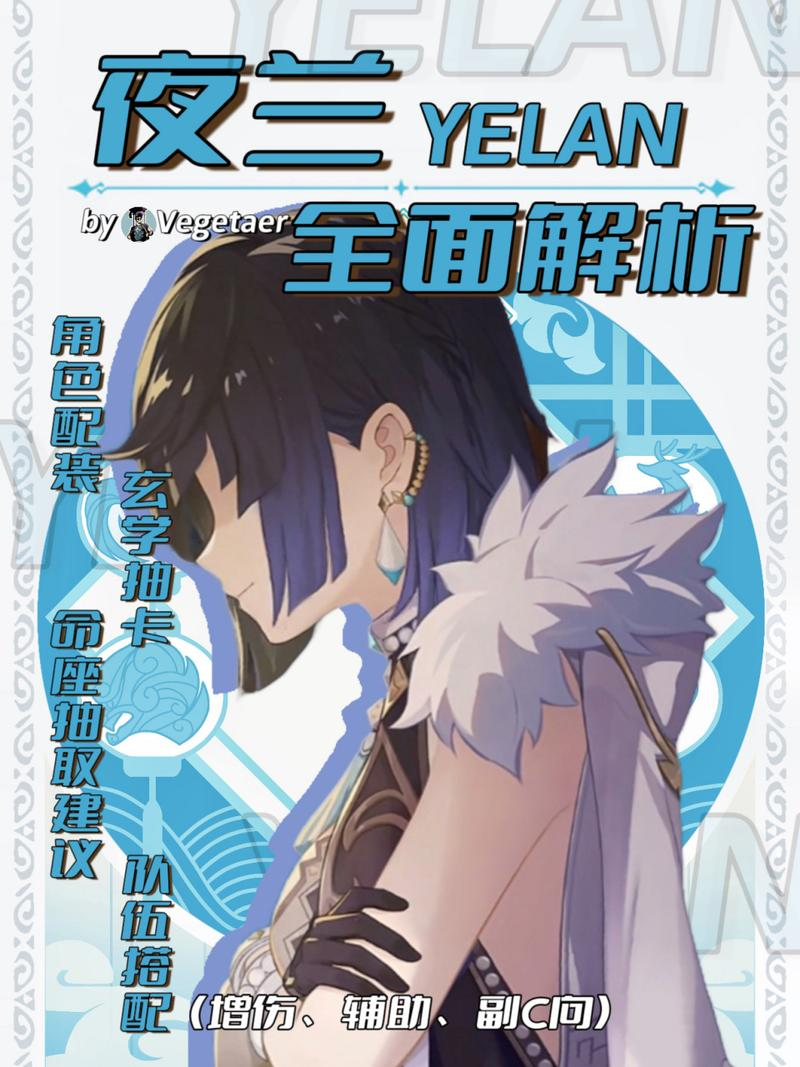夜兰: (114, 211, 723, 1067)
